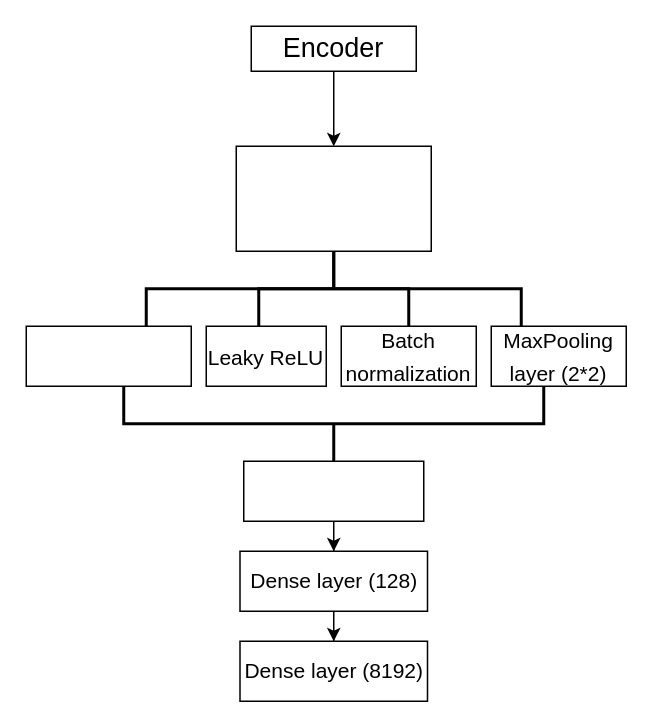
This 653x728 diagram has some shape labels left out. Each missing label, with the centre of its shape:
"Convolutional blocks" goes at point 333,198.
"Convolutional layer (3*3 filter)" goes at point 108,355.
"Flatten layer (8192)" goes at point 333,490.
